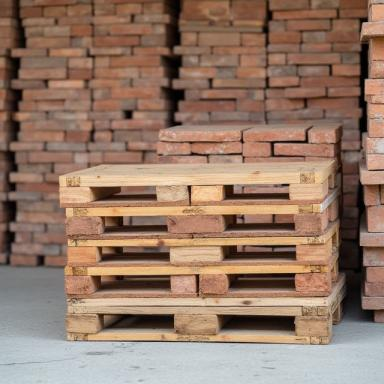pallet: (65, 272, 347, 345), (65, 184, 341, 240), (65, 248, 339, 298), (67, 218, 340, 267), (59, 160, 337, 208), (217, 316, 295, 341), (103, 314, 174, 328), (234, 184, 289, 194), (237, 214, 294, 223), (237, 245, 295, 252), (123, 216, 167, 225), (123, 247, 170, 252), (238, 274, 294, 278), (124, 276, 170, 280)
